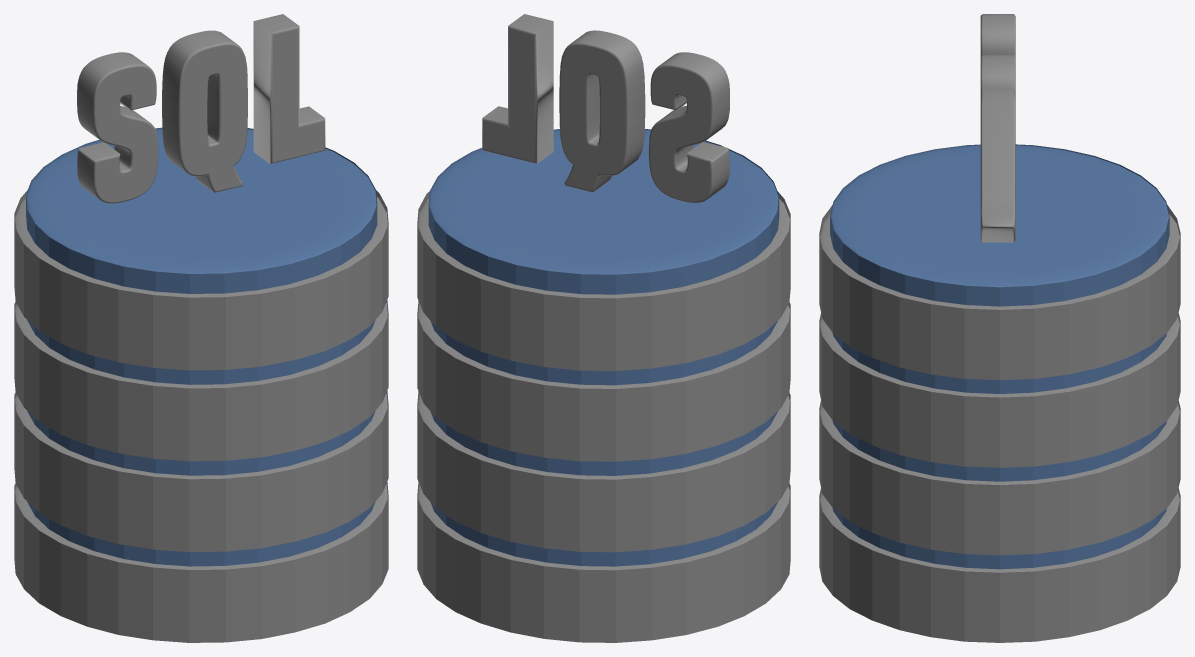
The model's file is sql.glb.
3 views of the same model, side by side, from view 1: azimuth 30°, elevation 25°; view 2: azimuth 150°, elevation 25°; view 3: azimuth 270°, elevation 25° (orthographic). The views are drawn at different scales.
Parts seen in each view (by area): view 1: Cylinder.007; view 2: Cylinder.007; view 3: Cylinder.007.
Boxes of the visible parts, box(x1,y1,x2,y2) form: Cylinder.007: box(14, 14, 388, 642); Cylinder.007: box(417, 14, 790, 642); Cylinder.007: box(819, 14, 1180, 642).
Size of the model in its own units: 0.1547 by 0.2392 by 0.1547.
